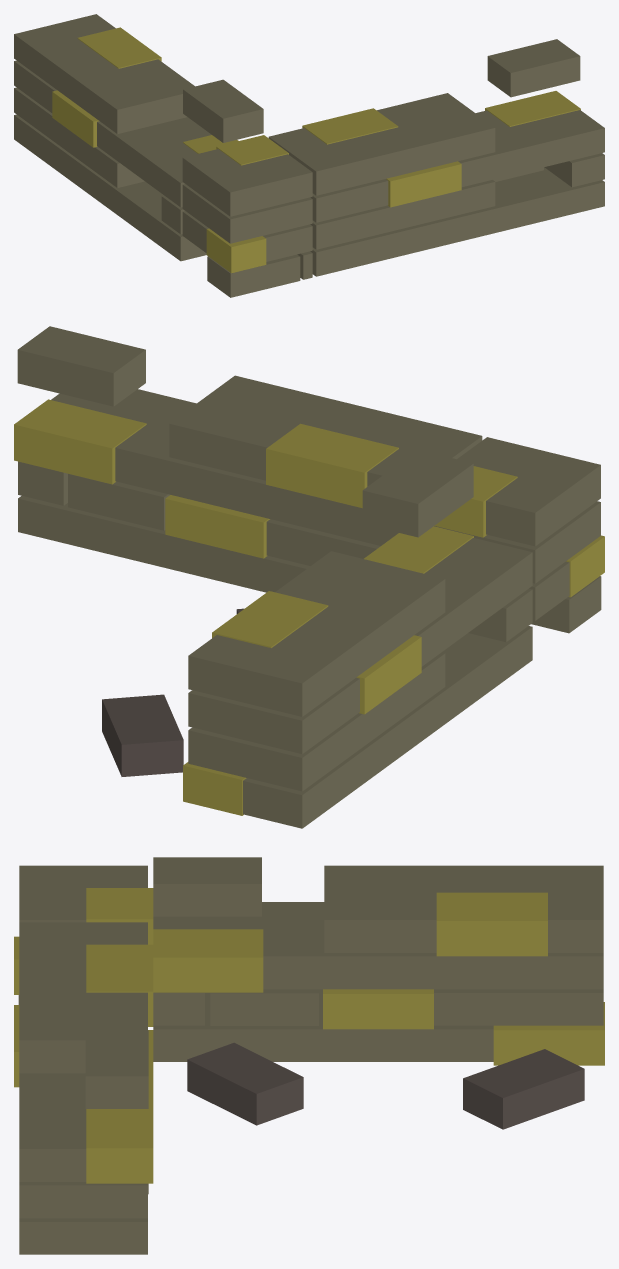
Rendered from SM_PretilEsquina_v2_Irregular_e1_Danado_LOD1.fbx.
3 views of the same model, one above another, from view 1: azimuth 30°, elevation 25°; view 2: azimuth 150°, elevation 25°; view 3: azimuth 270°, elevation 25° (orthographic). The views are drawn at different scales.
Parts seen in each view (by area): view 1: SM_pretil_azotea_v29_LOD1; view 2: SM_pretil_azotea_v29_LOD1; view 3: SM_pretil_azotea_v29_LOD1.
Part boxes in pixels (x1,y1,x2,y2): SM_pretil_azotea_v29_LOD1: [14, 14, 604, 297]; SM_pretil_azotea_v29_LOD1: [14, 326, 604, 828]; SM_pretil_azotea_v29_LOD1: [14, 857, 604, 1254].
Size of the model in its own units: 4.41 by 1.49 by 4.41.
